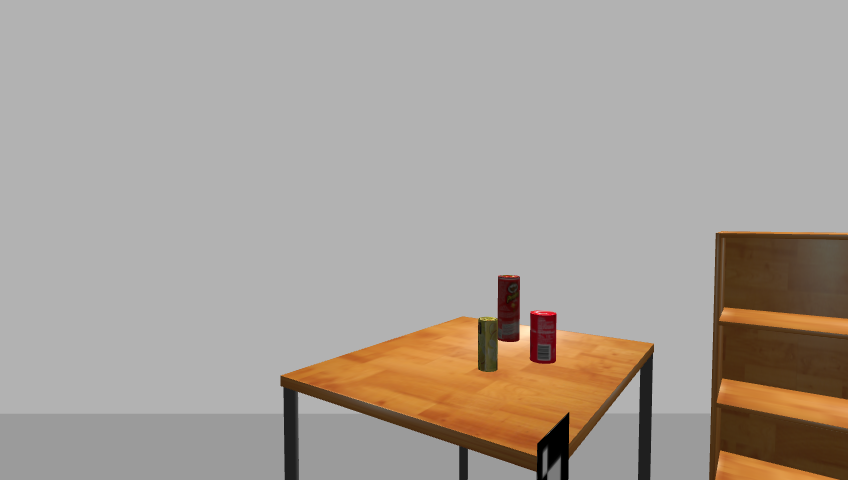aruco marker: (533, 413, 572, 480)
biscuits pack: (477, 317, 499, 373)
bookshelf: (704, 230, 848, 479)
coke can: (529, 311, 558, 364)
dinner table: (274, 316, 666, 479)
pringles can: (495, 274, 522, 344)
